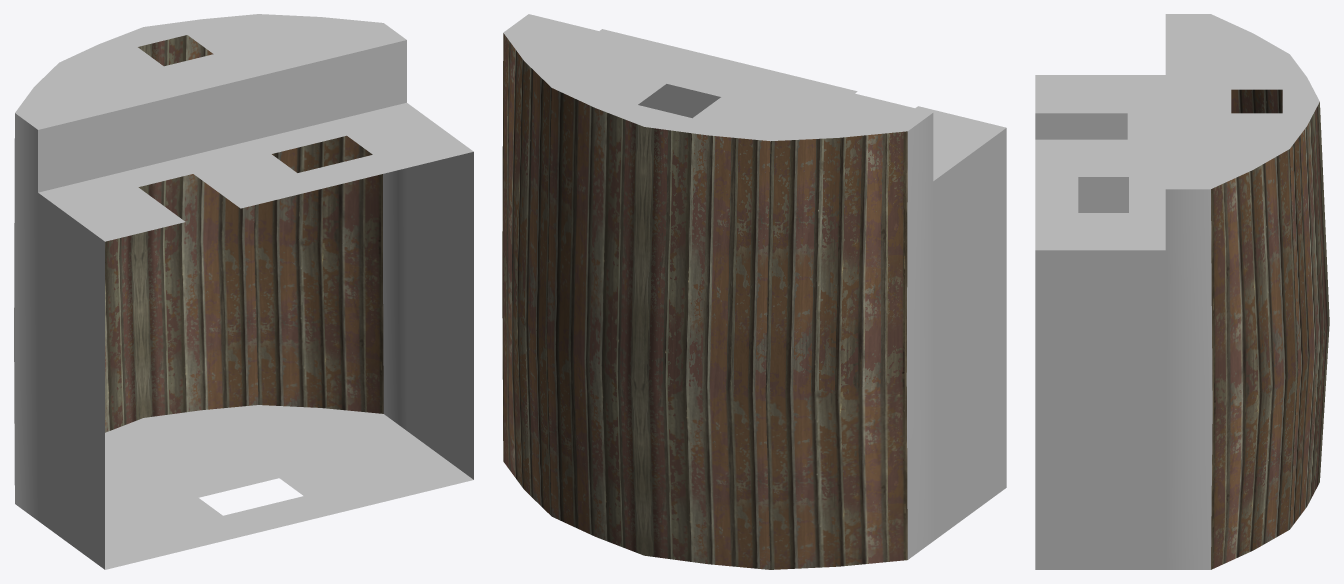
The model's file is Pirate_House_Interior_Type02_C.fbx.
The picture shows the model from 3 angles, left to right: view 1: azimuth 30°, elevation 25°; view 2: azimuth 150°, elevation 25°; view 3: azimuth 270°, elevation 25°; orthographic projection. The views are drawn at different scales.
Parts seen in each view (by area): view 1: Pirate_House_Interior_Type02_C; view 2: Pirate_House_Interior_Type02_C; view 3: Pirate_House_Interior_Type02_C.
Boxes of the visible parts, box(x1,y1,x2,y2) form: Pirate_House_Interior_Type02_C: box(14, 14, 473, 569); Pirate_House_Interior_Type02_C: box(502, 14, 1006, 569); Pirate_House_Interior_Type02_C: box(1035, 14, 1329, 569).
Size of the model in its own units: 9.5 by 9.63 by 6.75.
